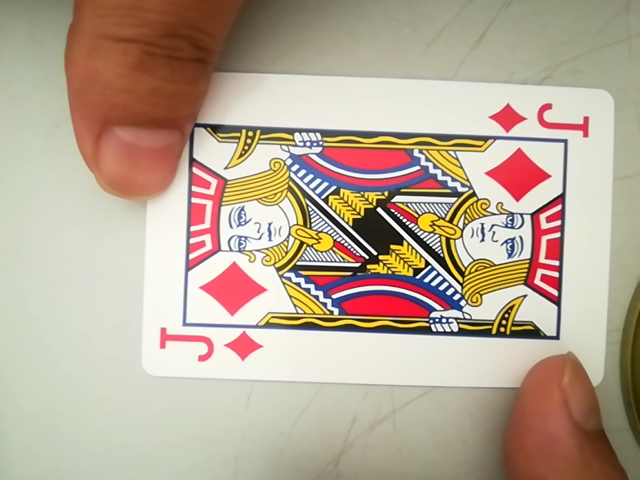fk j: (149, 324, 267, 370), (491, 99, 595, 139)
